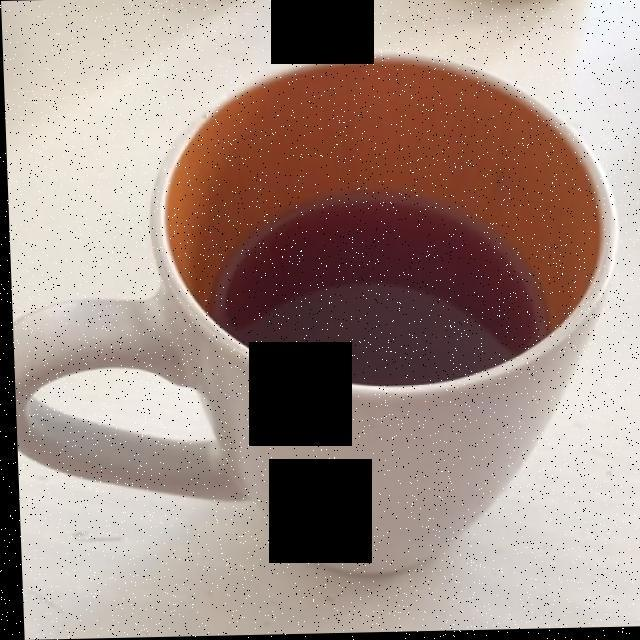tea: (206, 193, 544, 384)
